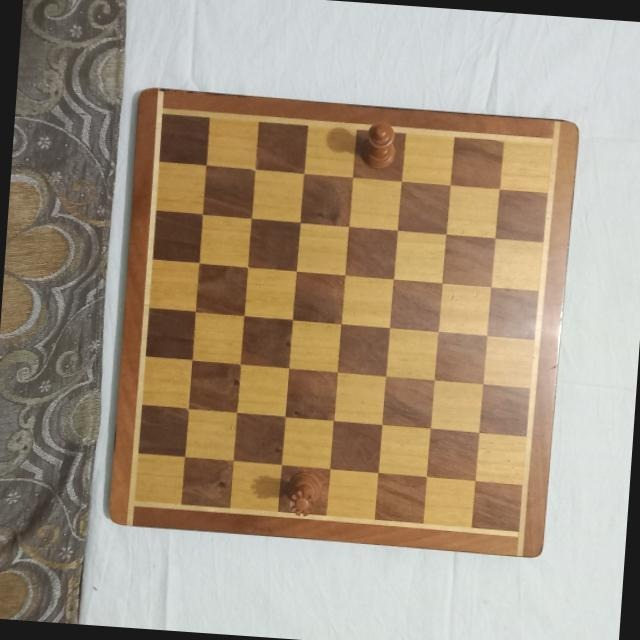white-king: (358, 117, 398, 169)
white-queen: (284, 466, 324, 517)
